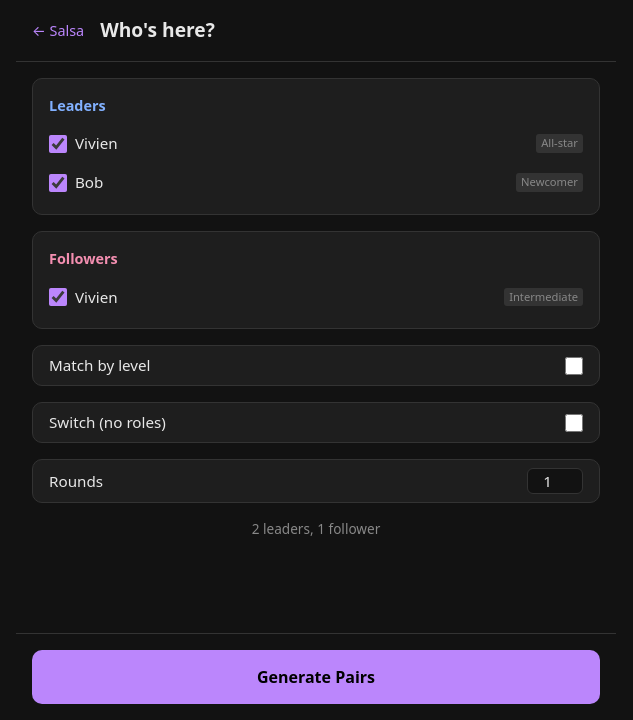
it: Room page › level per role › shows the level of the role each person dances, on attendance and pairs
Check: the checkbox labelled "Vivien All-star" is shown, box [49,135,67,153]
Check: the checkbox labelled "Vivien Intermediate" is shown, box [49,288,67,306]
# Only Bob can lead Vivien: she follows, at her follower level
Click the button "Generate Pairs": (316, 677) [32,650,600,704]
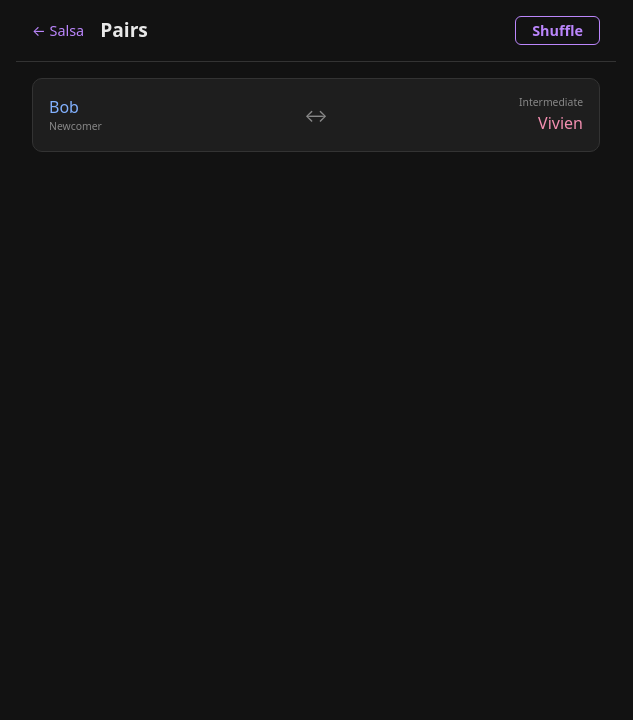
Check: the list item shows "Intermediate", box [519,95,583,109]
Check: the list item no longer shows "All-star", box [32,78,600,152]
